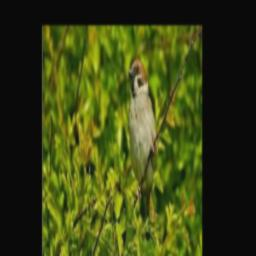Sparrow: (128, 59, 157, 241)
